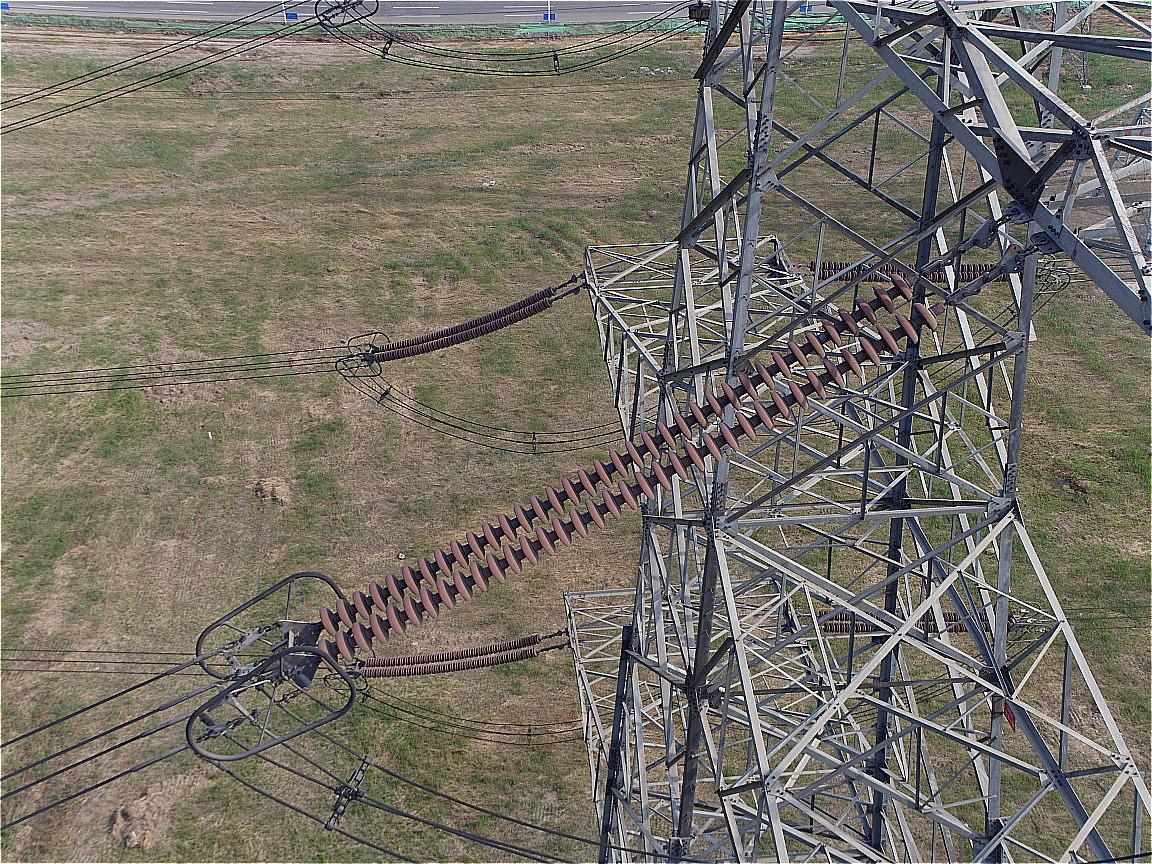insultor1: (321, 274, 938, 667)
insultor2: (374, 286, 556, 365), (363, 632, 542, 680)
